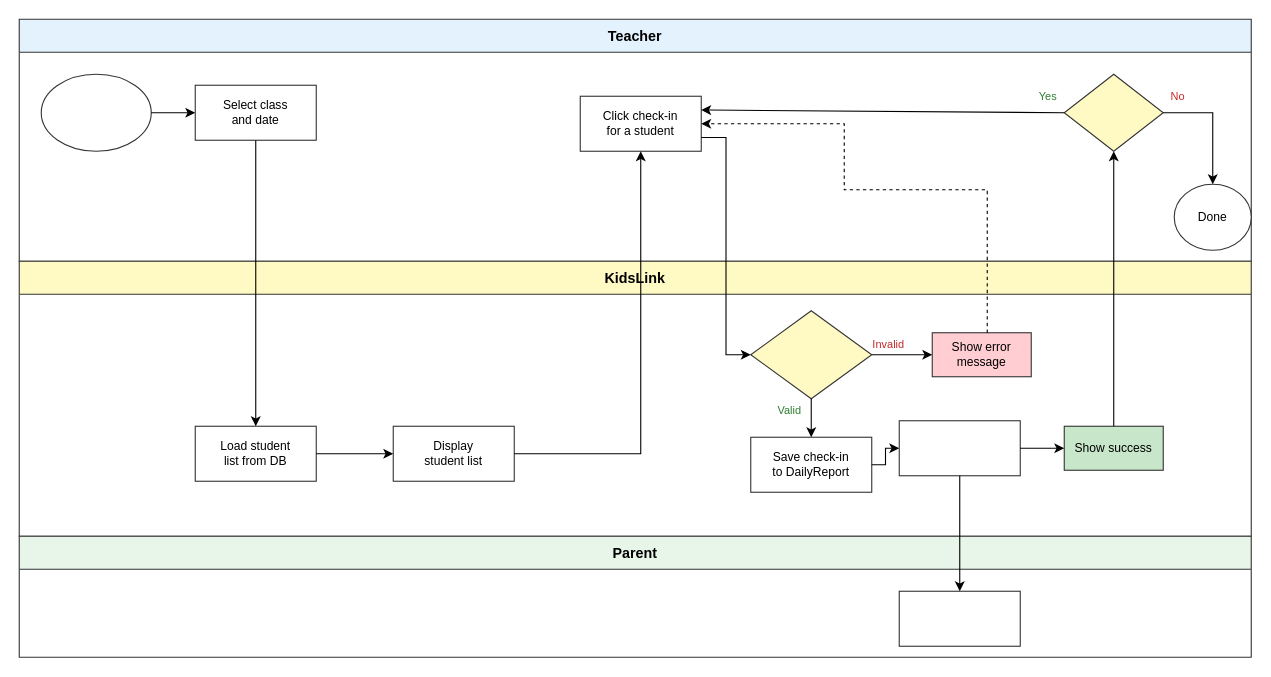
Image size: 1271x677. Some labels were removed from this diagram. Here are the shapes that lost their labels. From the top down, the centre of each, then its label:
At pixel 95 112: "Start - Open check-in page".
At pixel 1113 112: "More students?".
At pixel 811 354: "Has schedule? Already checked?".
At pixel 959 448: "Send check-in notification".
At pixel 959 618: "Receive check-in notification".
